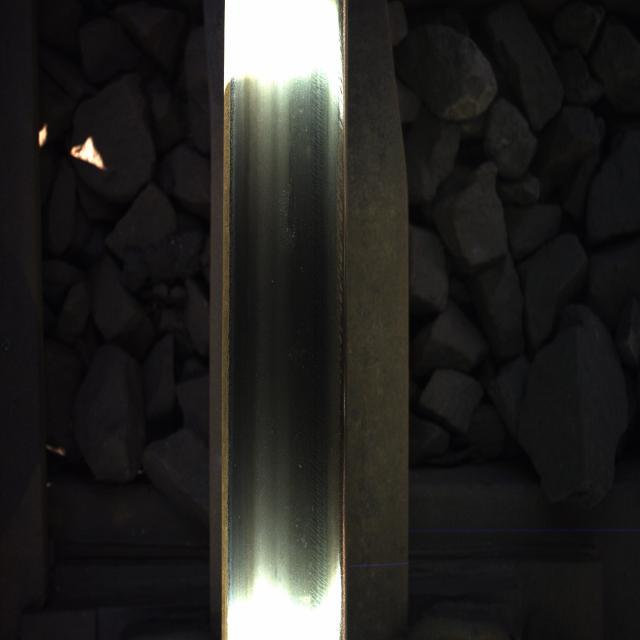break: (230, 53, 351, 592)
